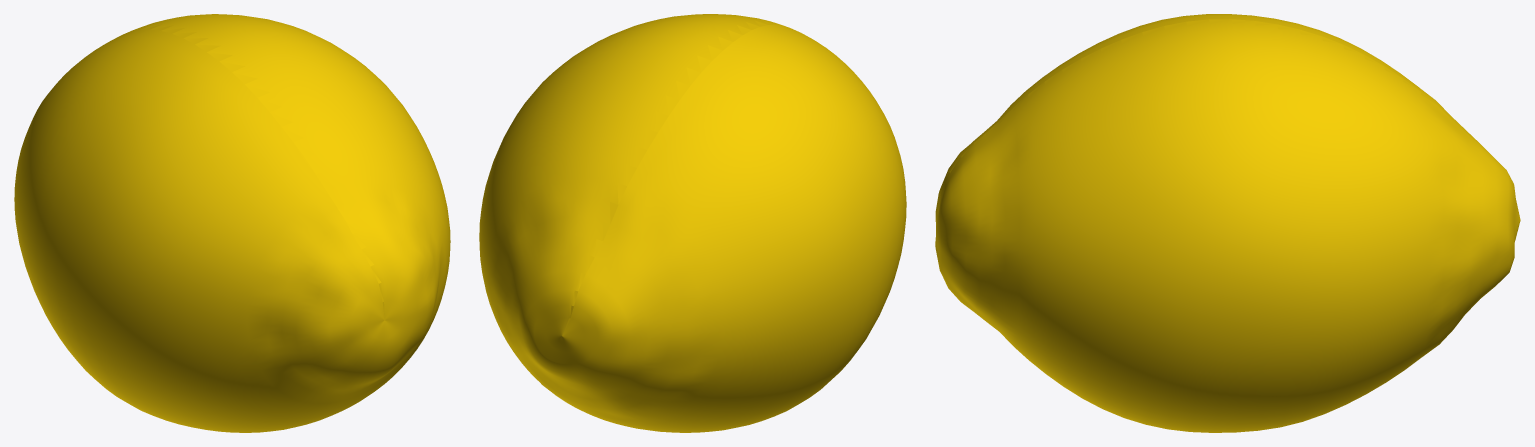
The model's file is lemon.dae.
3 renders of one model, left to right at view 1: azimuth 30°, elevation 25°; view 2: azimuth 150°, elevation 25°; view 3: azimuth 270°, elevation 25°, orthographic. The views are drawn at different scales.
Visible parts, largest first — view 1: _3DGeom_1_Defintion; view 2: _3DGeom_1_Defintion; view 3: _3DGeom_1_Defintion.
Boxes of the visible parts, x1=… form: _3DGeom_1_Defintion: x1=14, y1=14, x2=450, y2=432; _3DGeom_1_Defintion: x1=479, y1=14, x2=906, y2=432; _3DGeom_1_Defintion: x1=935, y1=14, x2=1520, y2=432.
Size of the model in its own units: 18.76 by 26.13 by 18.92.
